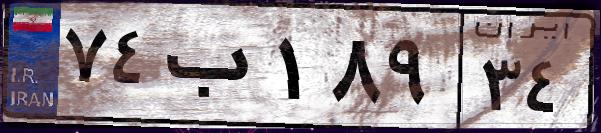1: (270, 28, 330, 110)
3: (475, 38, 525, 113)
4: (525, 38, 570, 115), (110, 28, 158, 98)
7: (57, 26, 110, 100)
8: (330, 28, 385, 110)
9: (385, 28, 445, 110)
ب: (158, 20, 270, 120)
